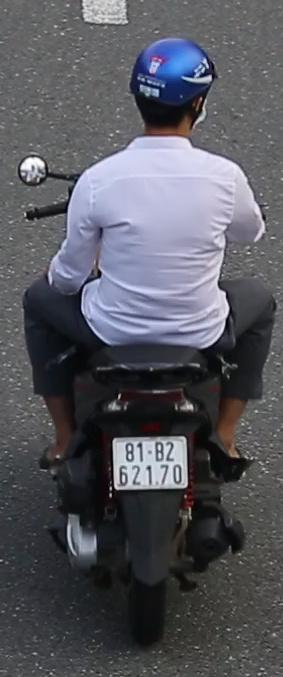LP: (108, 429, 191, 493)
helmet: (127, 31, 220, 152)
